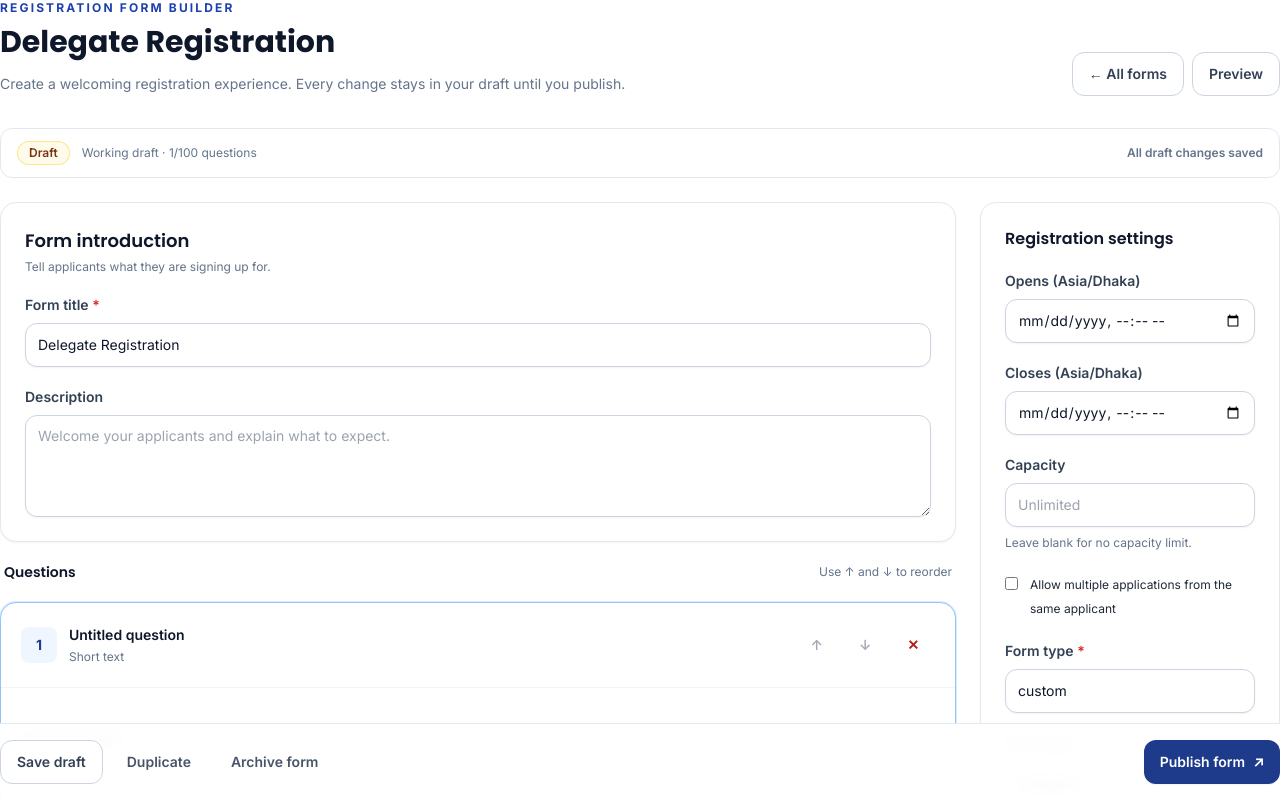
Scenario: no-code form builder › keeps publication from running after a failed save and displays the field error
Check: the field labelled "Question label *" is shown, box [21,756,935,799]
Click the button "Publish form ↗": (1212, 762) [1144,740,1279,784]
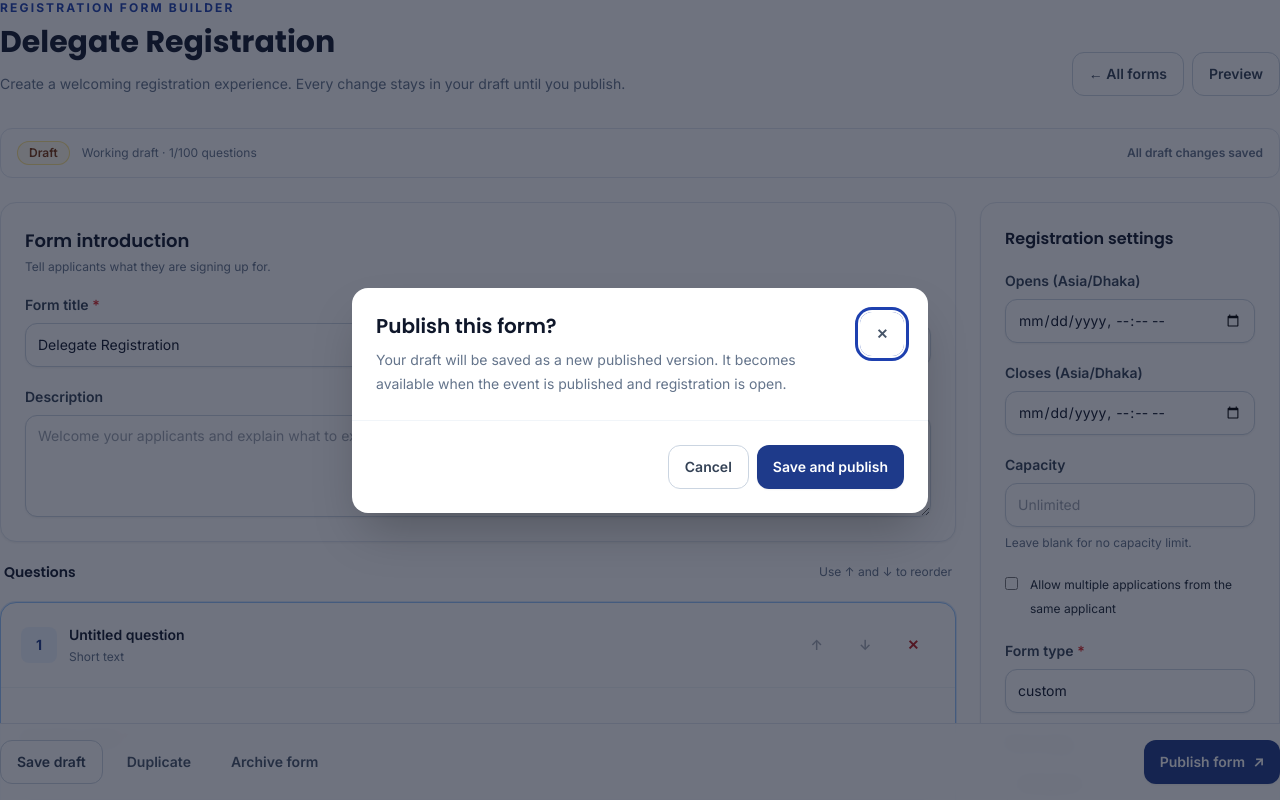
Click the button "Save and publish": (830, 466) [757,444,904,488]
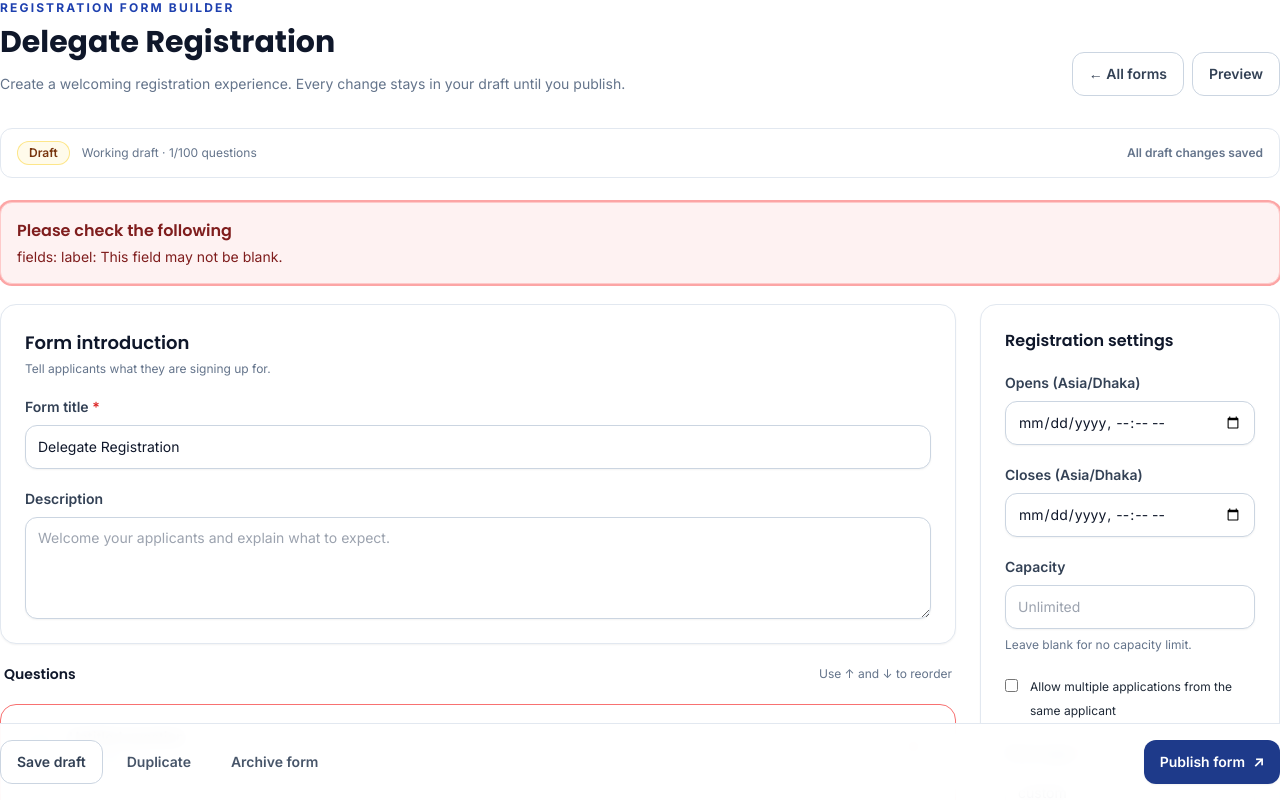
Check: the text "fields: label: This field may not be blank." is shown, box [17,248,282,265]
